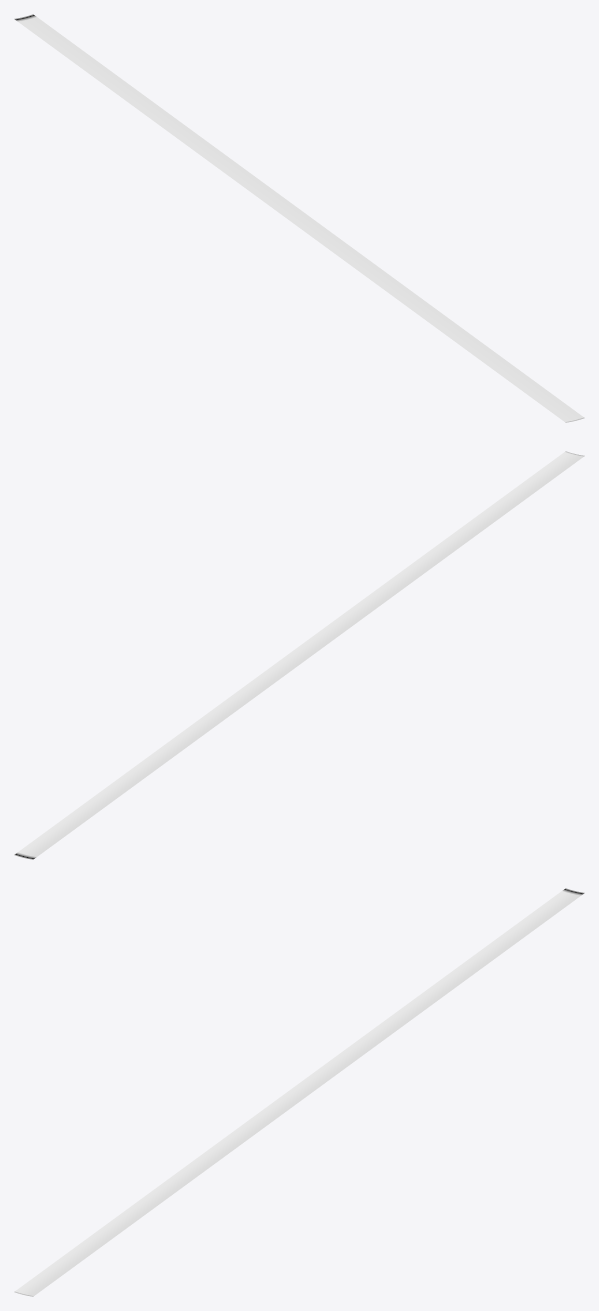
File: keybeam.fbx
The picture shows the model from 3 angles, top to bottom: view 1: azimuth 30°, elevation 25°; view 2: azimuth 150°, elevation 25°; view 3: azimuth 330°, elevation 25°; orthographic projection.
Parts seen in each view (by area): view 1: longnote.001; view 2: longnote.001; view 3: longnote.001.
Boxes of the visible parts, <box> form: longnote.001: <box>14,14,584,422</box>; longnote.001: <box>14,451,584,859</box>; longnote.001: <box>14,888,584,1296</box>.
Size of the model in its own units: 19.6 by 0.4817 by 973.
1 material, 1 textured.
